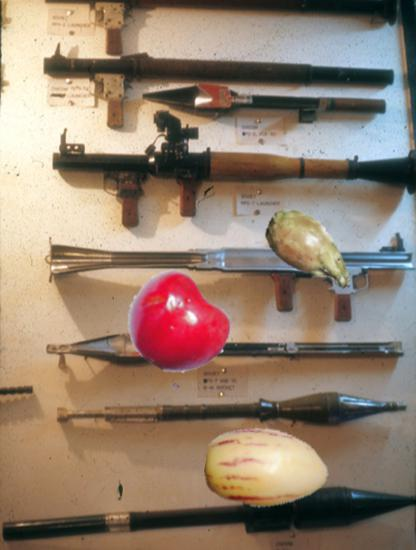Cactus: (260, 198, 365, 303)
Cherry: (126, 272, 232, 378)
Pepino: (205, 406, 331, 532)
